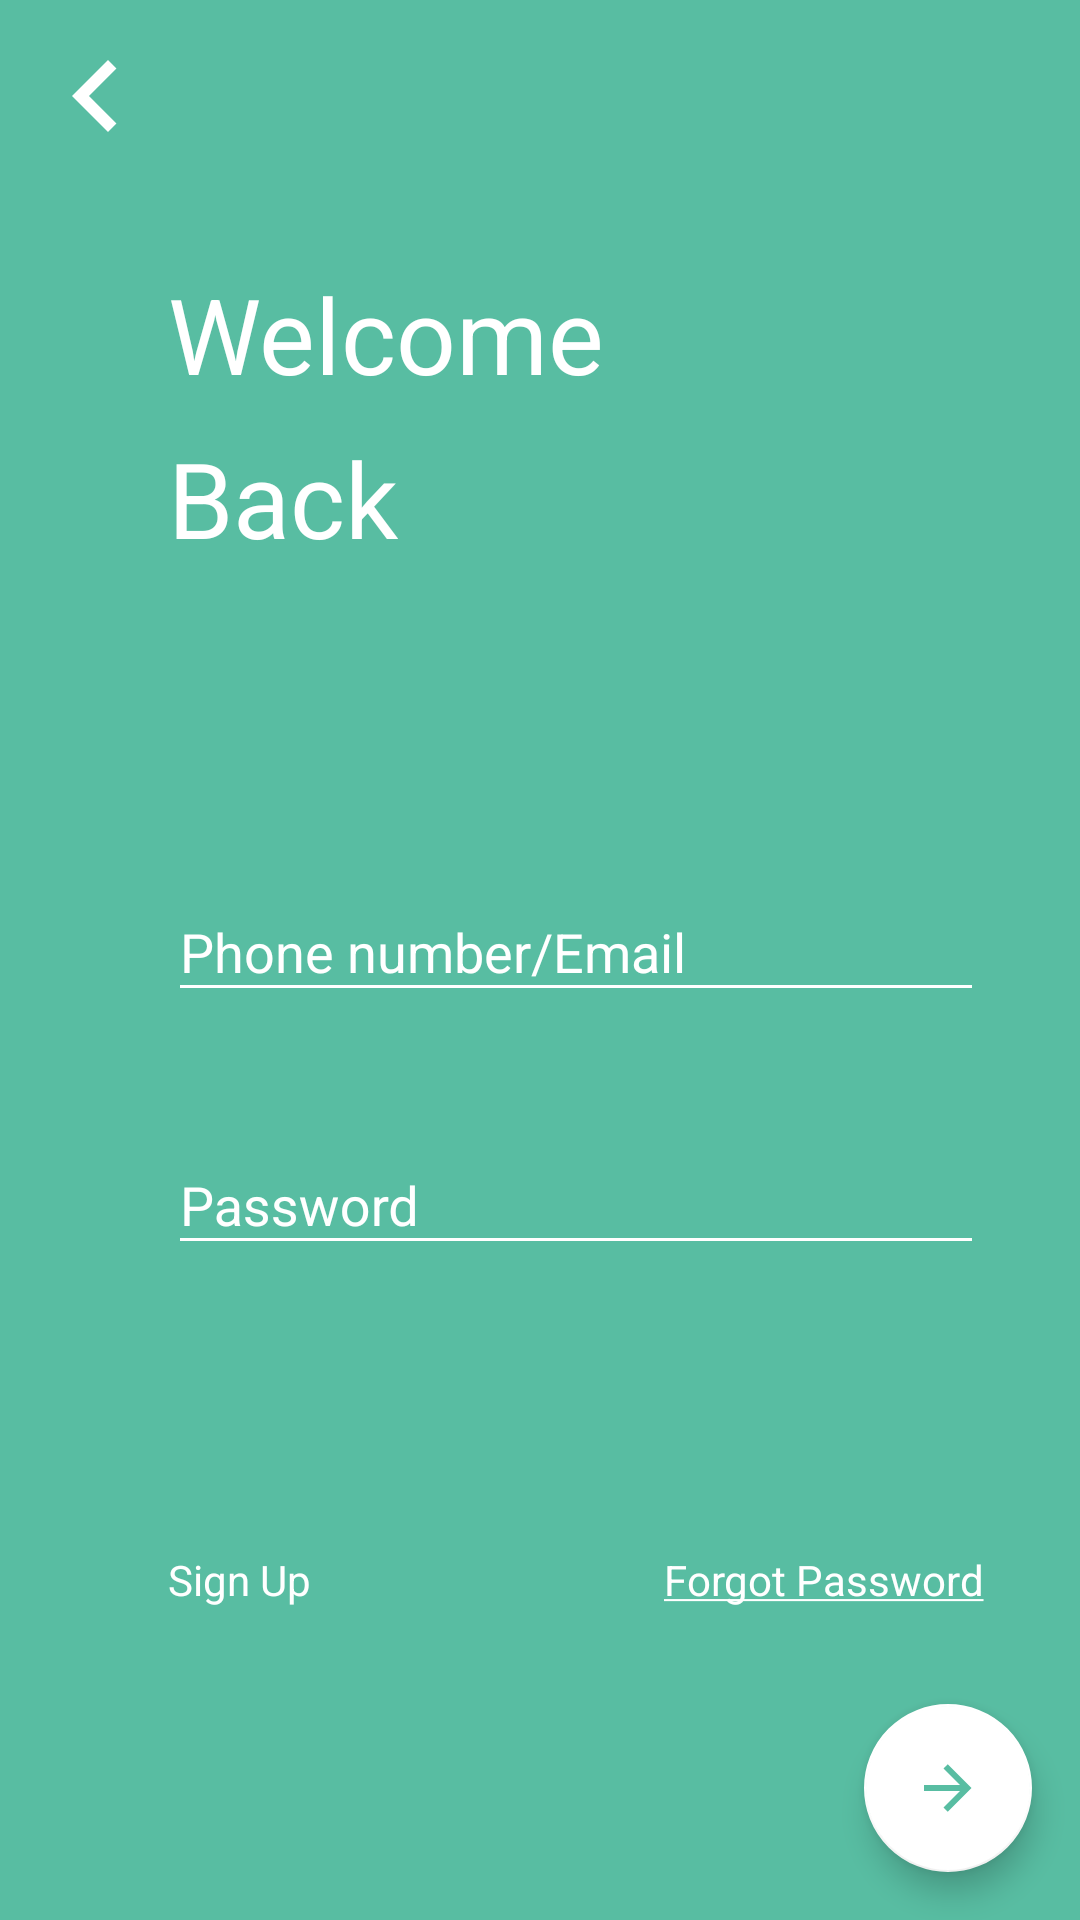

Screen size 1080px x 1920px. Icon name, then its box in pixels as (x1, y1, x2, y2):
arrow left: (72, 60, 117, 132)
arrow right: (864, 1704, 1032, 1872)
